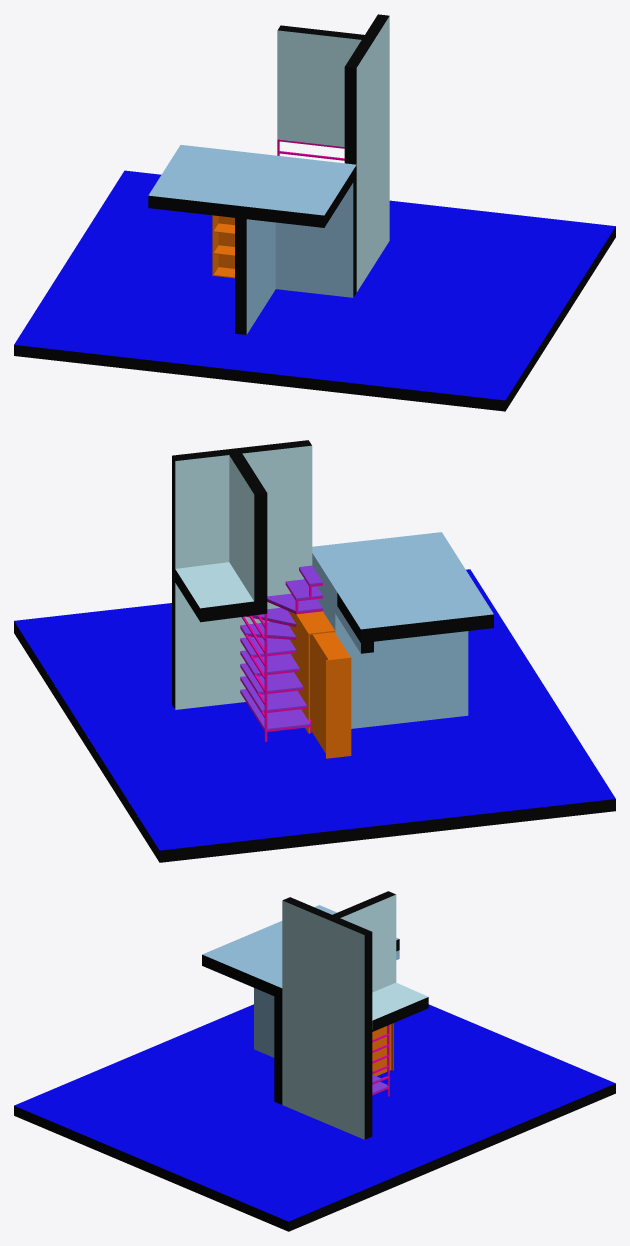
The model's file is 3D_projet.glb.
3 views of the same model, one above another, from view 1: azimuth 30°, elevation 25°; view 2: azimuth 150°, elevation 25°; view 3: azimuth 270°, elevation 25° (orthographic). The views are drawn at different scales.
Bounding box in the file's own units: 0.1083 × 0.0426 × 0.1083.
